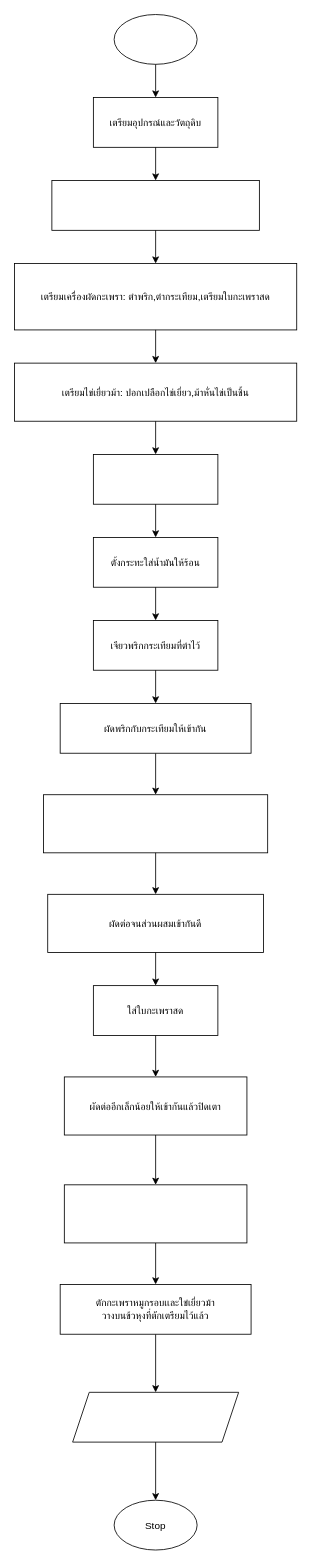
Some shapes in this 311 by 1565 pixel diagram are drawn without their labels. The centre of each missing label's shape, as x and y in pixels:
Start: the point at 155,39
ตักข้าวที่หุงเส็จเเล้วใส่จาน: the point at 155,1213
พร้อมเสิร์ฟ: the point at 155,1416
เตรียมหมูกรอบ: หั่นหมูกรอบเป็นชิ้นพอดีคำ: the point at 155,205
เตรียมหุงข้าวสวย: the point at 155,479
ใส่หมูกรอบและไข่เยี่ยวม้า ปรุงรสด้วยซอสตามสูตร: the point at 155,823
